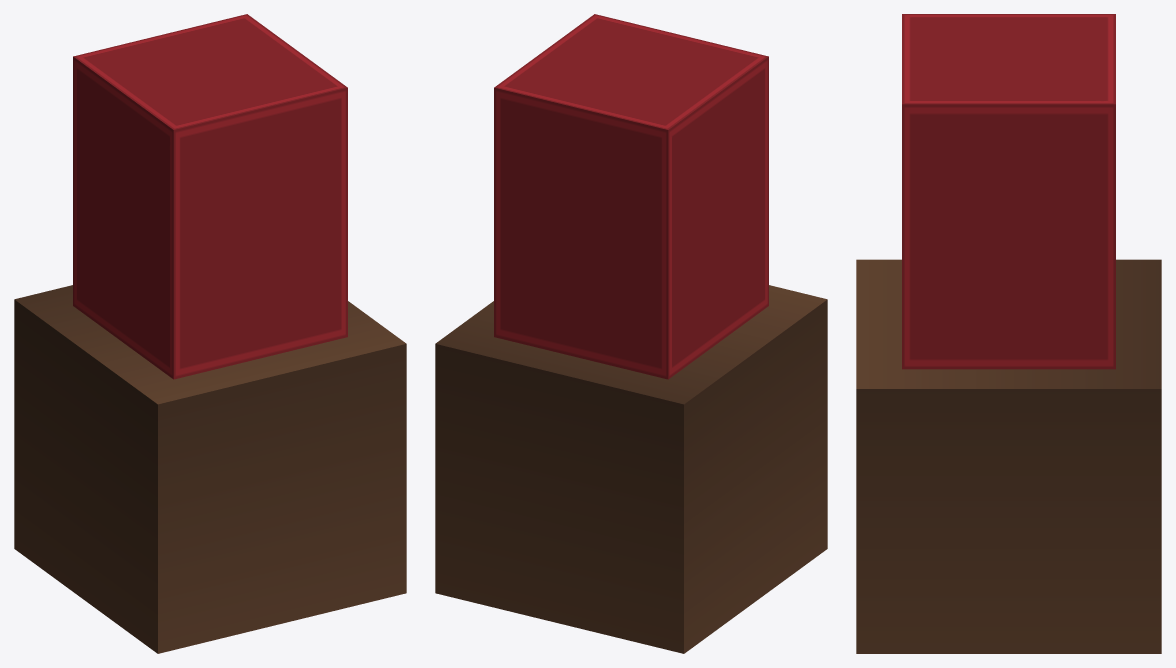
Rendered from PRP_Chair.glb.
The picture shows the model from 3 angles, left to right: view 1: azimuth 30°, elevation 25°; view 2: azimuth 150°, elevation 25°; view 3: azimuth 270°, elevation 25°; orthographic projection. The views are drawn at different scales.
Visible parts, largest first — view 1: PRP_Chair; view 2: PRP_Chair; view 3: PRP_Chair.
Boxes of the visible parts, left/top/right/bottom form: PRP_Chair: left=14, top=14, right=406, bottom=653; PRP_Chair: left=435, top=14, right=827, bottom=653; PRP_Chair: left=856, top=14, right=1161, bottom=653.
Bounding box in the file's own units: 0.6 × 1.15 × 0.6.
Materials: 1 (1 with a texture image).
